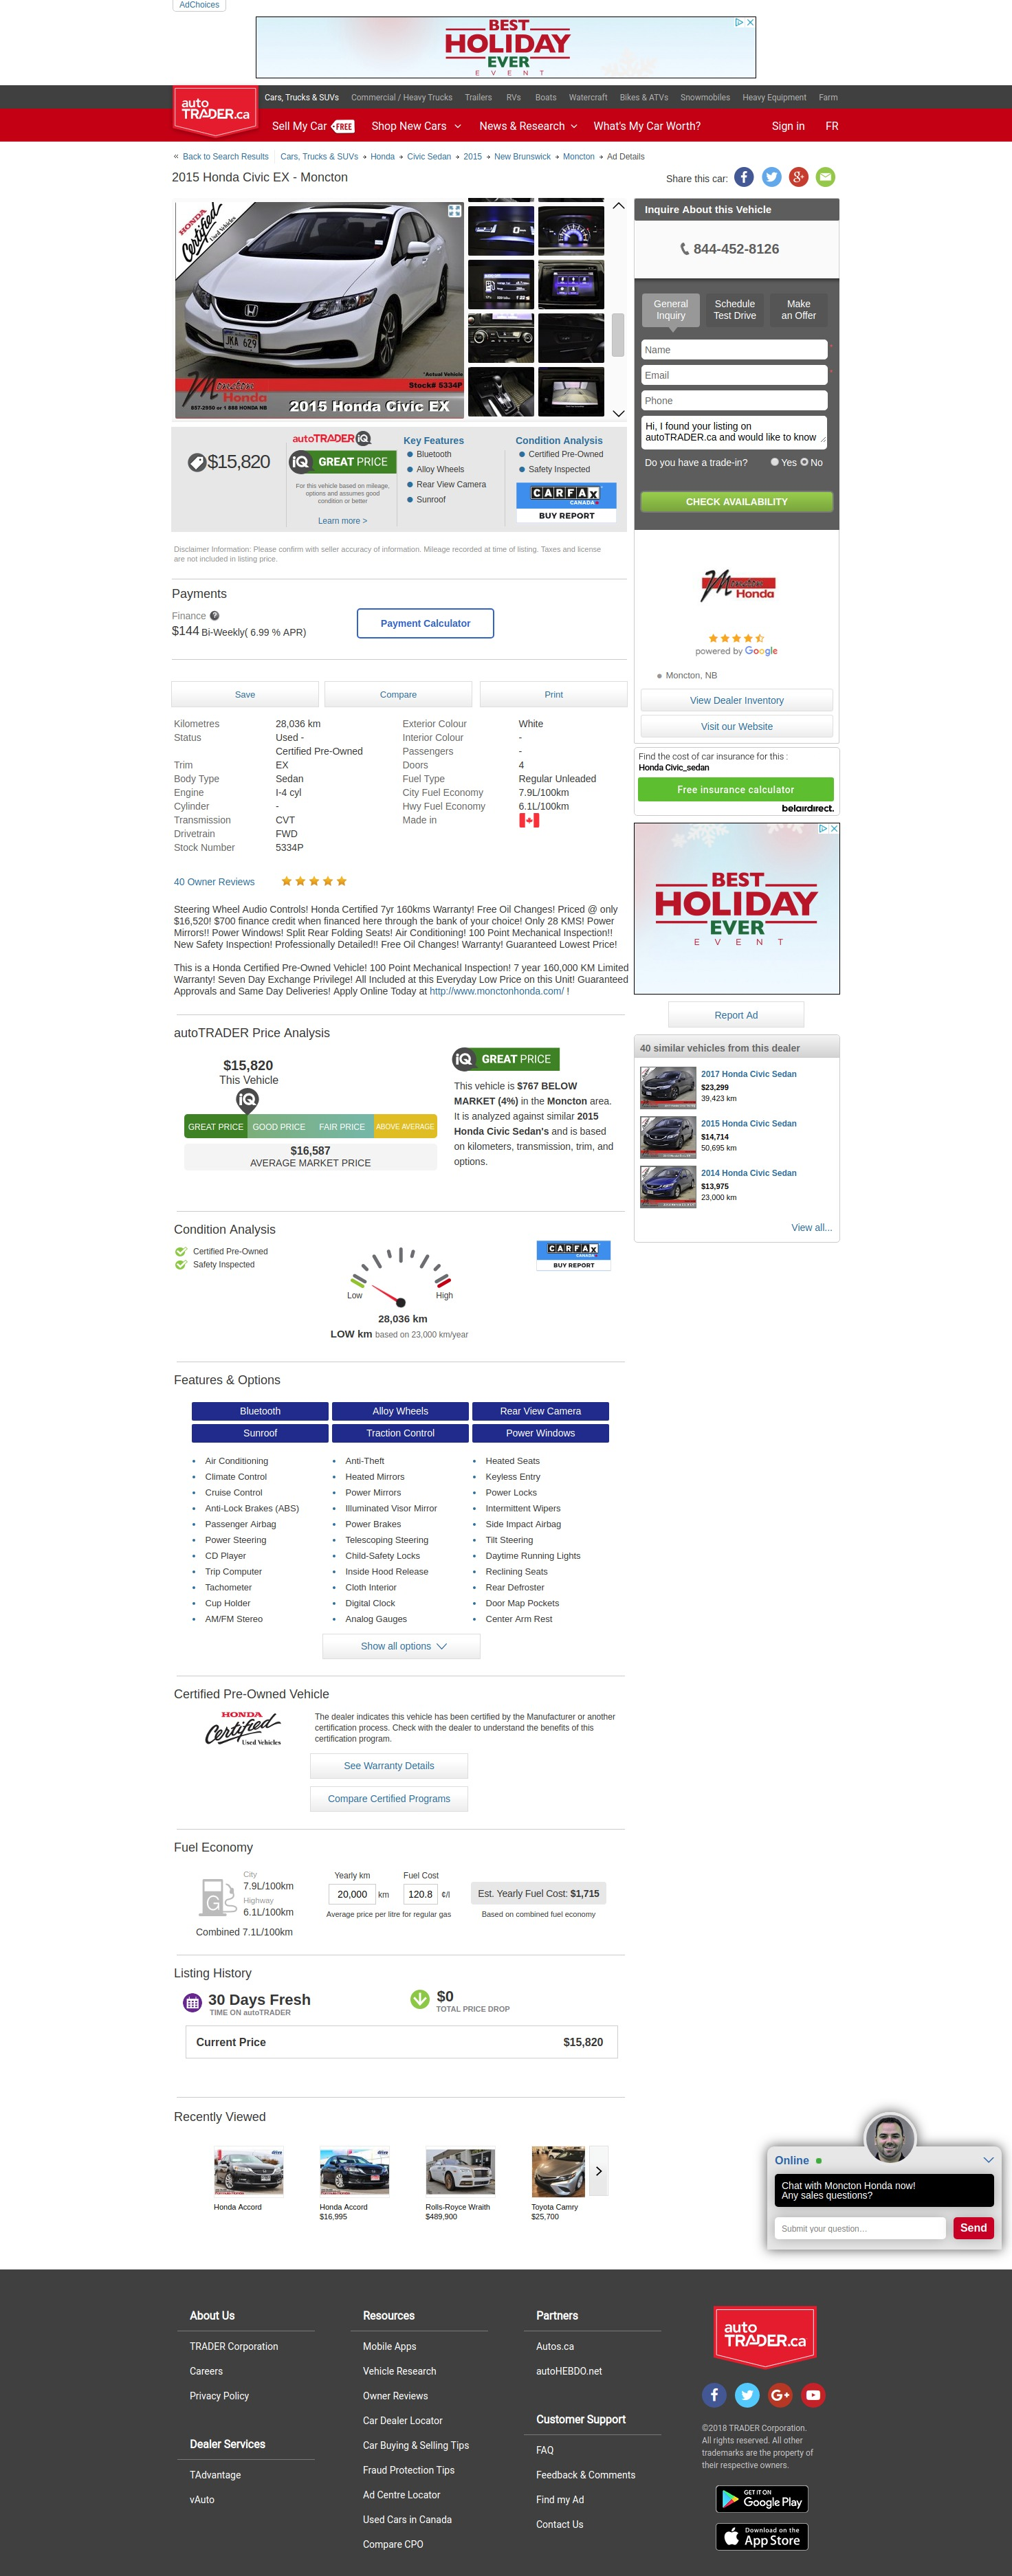car: (611, 409, 628, 419)
